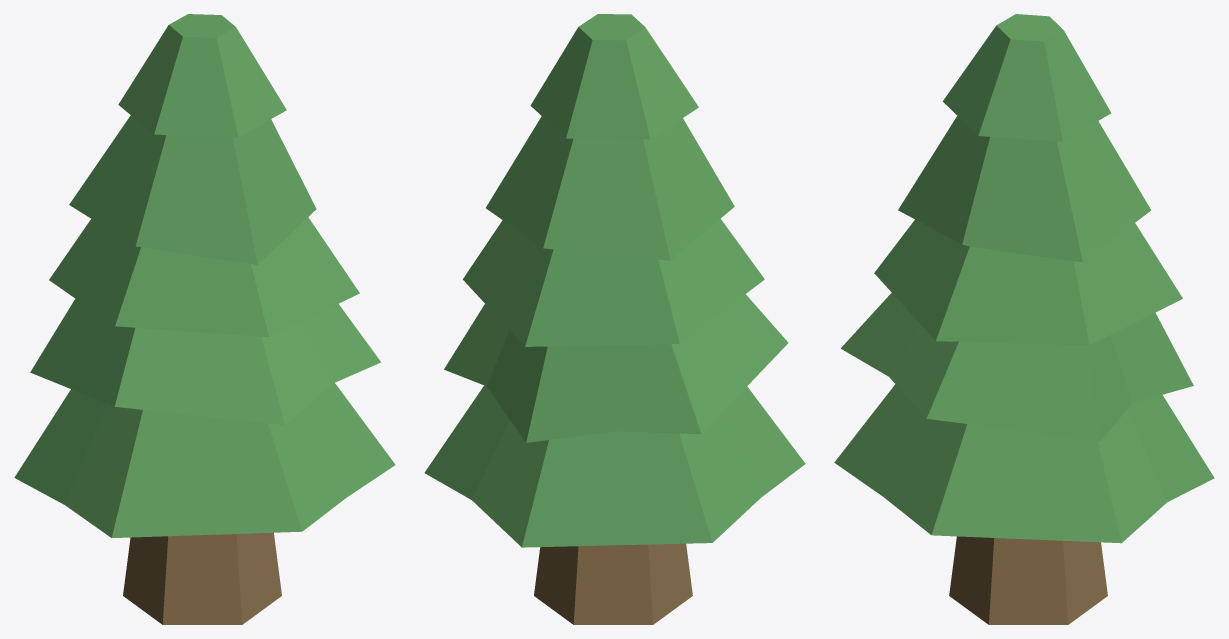
File: tree.fbx
3 renders of one model, left to right at view 1: azimuth 30°, elevation 25°; view 2: azimuth 150°, elevation 25°; view 3: azimuth 270°, elevation 25°, orthographic.
Visible parts, largest first — view 1: Cylinder.001, Cylinder.002, Cylinder.004, Cylinder.003, Cylinder.005, Cylinder; view 2: Cylinder.001, Cylinder.002, Cylinder.003, Cylinder.004, Cylinder.005, Cylinder; view 3: Cylinder.001, Cylinder.002, Cylinder.003, Cylinder.004, Cylinder.005, Cylinder.
Part boxes in pixels (x1,y1,x2,y2): Cylinder.001: [14, 383, 395, 537]; Cylinder.002: [30, 299, 380, 425]; Cylinder.004: [69, 115, 316, 264]; Cylinder.003: [49, 217, 359, 336]; Cylinder.005: [118, 14, 286, 137]; Cylinder: [123, 532, 281, 624]; Cylinder.001: [424, 385, 805, 547]; Cylinder.002: [444, 294, 788, 442]; Cylinder.003: [463, 219, 764, 346]; Cylinder.004: [486, 116, 734, 260]; Cylinder.005: [530, 14, 698, 139]; Cylinder: [534, 543, 692, 624]; Cylinder.001: [834, 384, 1214, 543]; Cylinder.002: [841, 293, 1193, 440]; Cylinder.003: [874, 219, 1182, 345]; Cylinder.004: [898, 116, 1151, 262]; Cylinder.005: [942, 14, 1110, 141]; Cylinder: [949, 536, 1107, 624].
Size of the model in its own units: 418 by 791 by 479.
